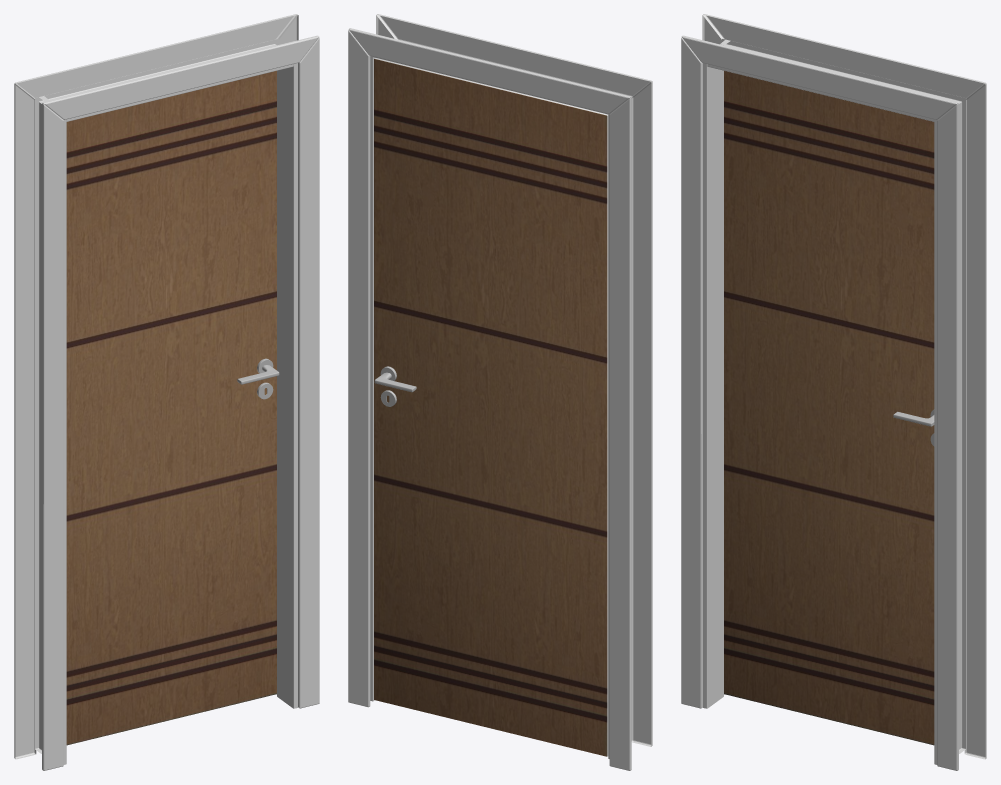
Rendered from door.fbx.
3 views of the same model, side by side, from view 1: azimuth 30°, elevation 25°; view 2: azimuth 150°, elevation 25°; view 3: azimuth 330°, elevation 25° (orthographic).
Visible parts, largest first — view 1: POrta PB184, Cube.003, Cube, Cube.002, Cube.001, Cylinder002; view 2: POrta PB184, Cube.002, Cube.003, Cube, Cylinder002; view 3: POrta PB184, Cube.003, Cube, Cube.002, Cube.001.
Part boxes in pixels (x1,y1,x2,y2): POrta PB184: (66, 71, 276, 745); Cube.003: (42, 35, 319, 770); Cube: (35, 43, 297, 764); Cube.002: (14, 14, 298, 759); Cube.001: (35, 39, 293, 121); Cylinder002: (237, 358, 279, 399); POrta PB184: (374, 58, 608, 756); Cube.002: (348, 28, 631, 770); Cube.003: (376, 14, 652, 746); Cube: (370, 57, 609, 758); Cylinder002: (374, 366, 416, 406); POrta PB184: (724, 71, 934, 745); Cube.003: (681, 35, 958, 770); Cube: (703, 63, 965, 764); Cube.002: (702, 14, 986, 759); Cube.001: (707, 39, 965, 121).
Size of the model in its own units: 96.72 by 221 by 21.55.
6 materials, 1 textured.
